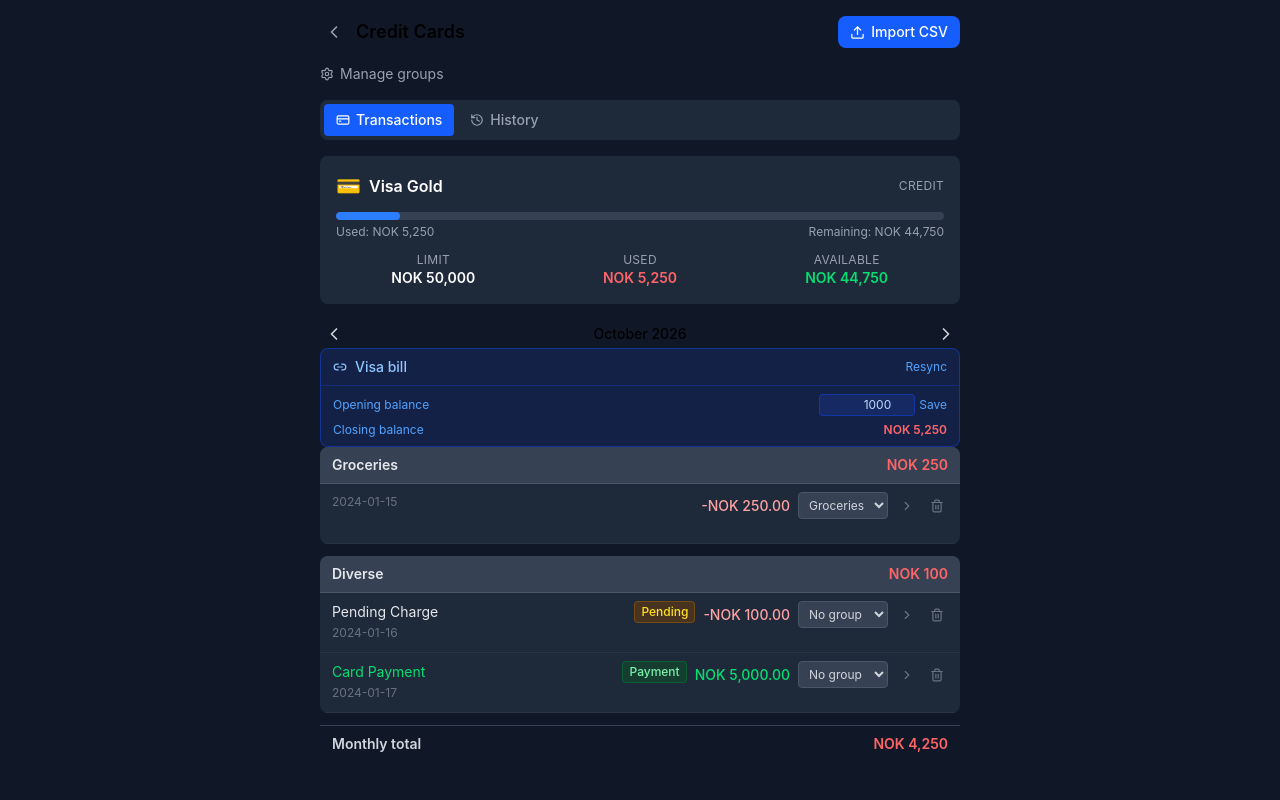
Test case: BudgetCreditCards – delete transaction › falls back to the generic message when the transaction has no description
Expected: the text "Pending Charge" is shown, [332,603,438,620]
Note: Transaction 1 is the first row with a trash button.
Click the button titled "Delete transaction" next to "-NOK 250.00" at [937, 506], box [926,494,948,516]
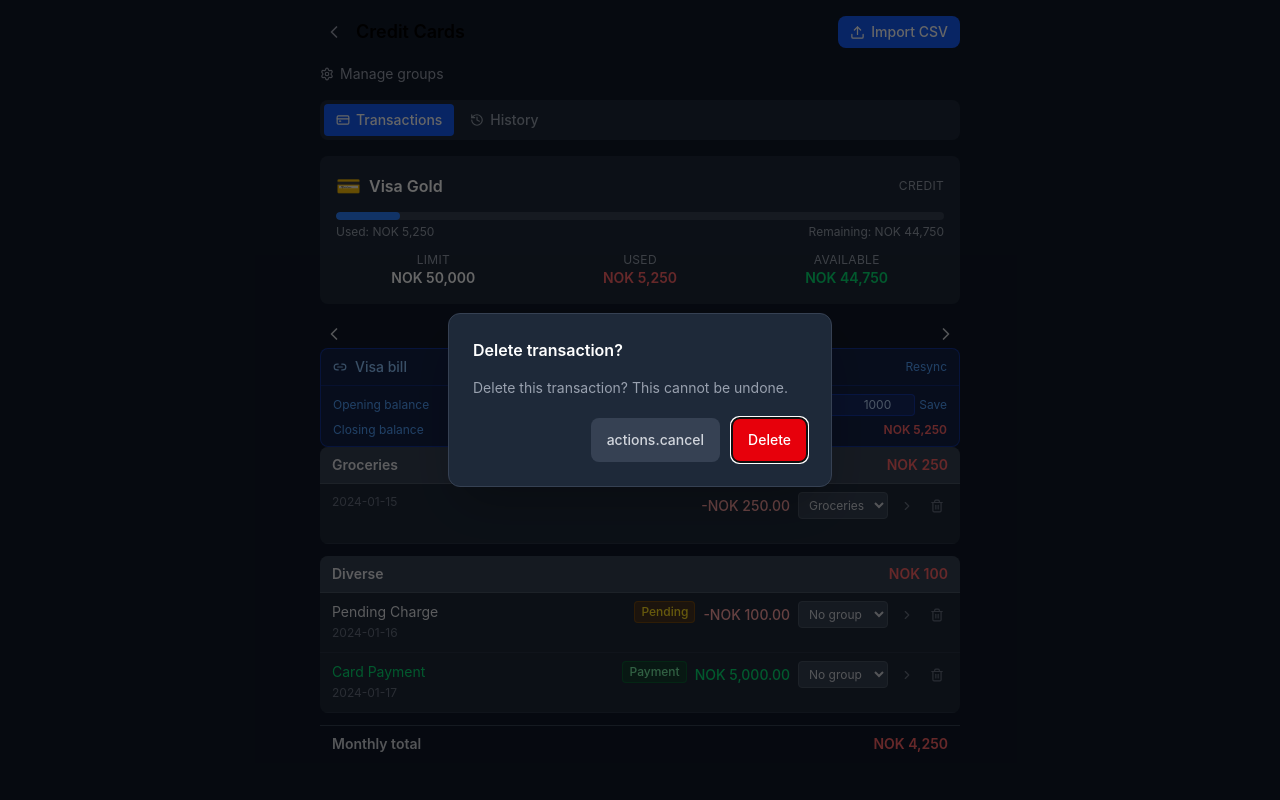
Expected: the dialog is shown
Expected: the dialog shows "Delete this transaction? This cannot be undone.", [473,379,788,396]
